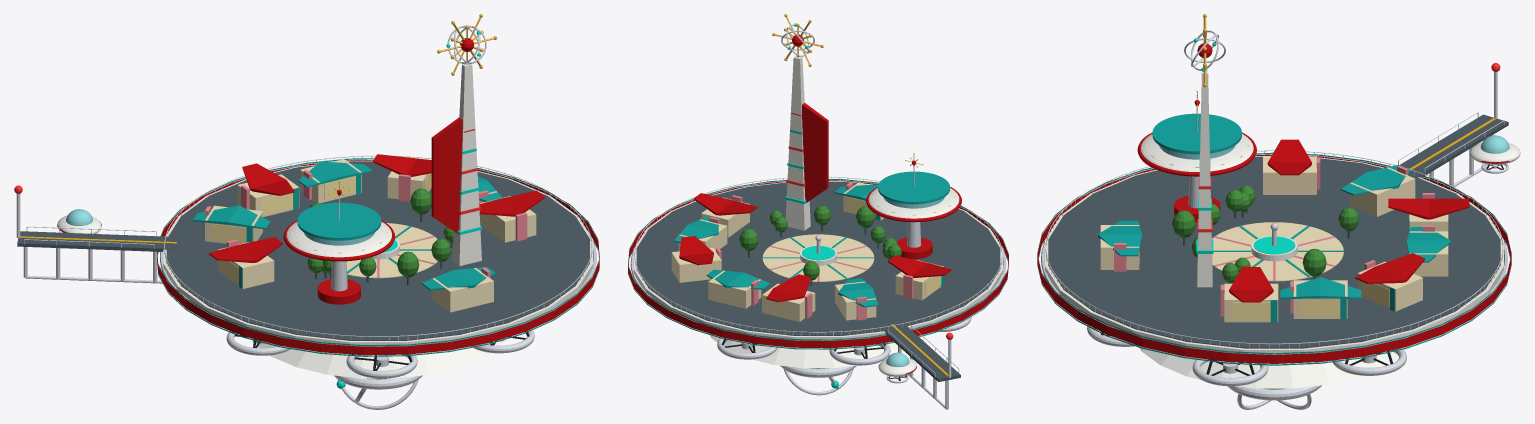
Rendered from station_civil.obj.
3 views of the same model, side by side, from view 1: azimuth 30°, elevation 25°; view 2: azimuth 150°, elevation 25°; view 3: azimuth 270°, elevation 25° (orthographic). The views are drawn at different scales.
Visible parts, largest first — view 1: station_civil; view 2: station_civil; view 3: station_civil.
Boxes of the visible parts, x1=… form: station_civil: x1=14, y1=14, x2=599, y2=409; station_civil: x1=628, y1=14, x2=1008, y2=409; station_civil: x1=1037, y1=14, x2=1520, y2=409.
Size of the model in its own units: 1400 by 1157 by 1204.
1 material, 1 textured.
